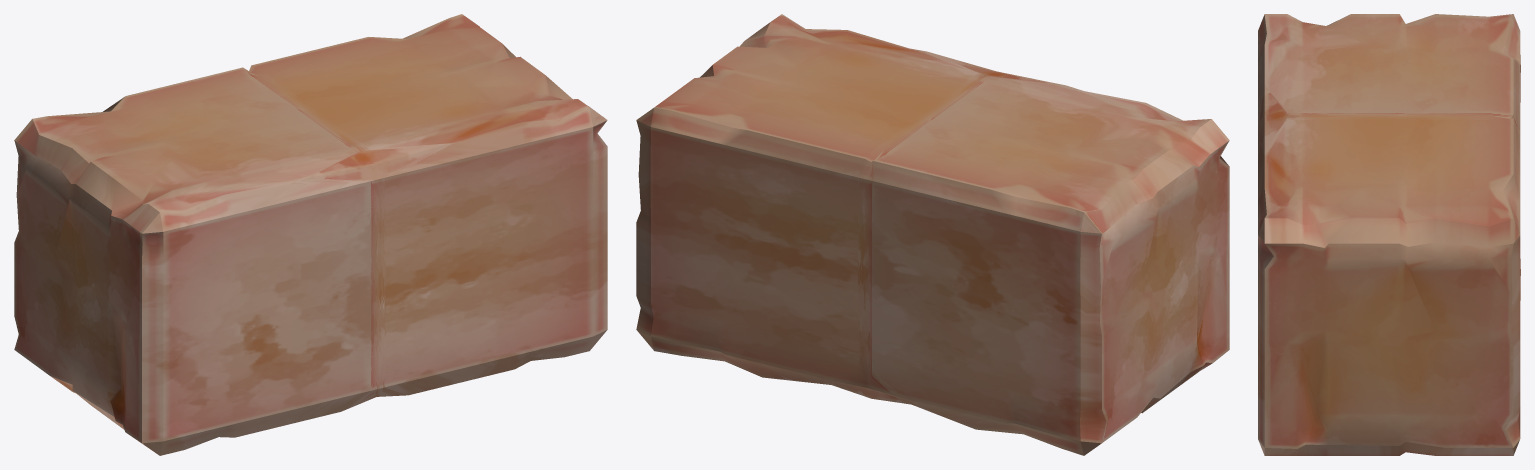
File: sand_block.fbx
The picture shows the model from 3 angles, left to right: view 1: azimuth 30°, elevation 25°; view 2: azimuth 150°, elevation 25°; view 3: azimuth 270°, elevation 25°; orthographic projection. The views are drawn at different scales.
Visible parts, largest first — view 1: desert_block; view 2: desert_block; view 3: desert_block.
Part boxes in pixels (x1,y1,x2,y2): desert_block: [14, 14, 607, 455]; desert_block: [636, 14, 1229, 455]; desert_block: [1258, 14, 1520, 455].
Bounding box in the file's own units: 200 × 100 × 100.
